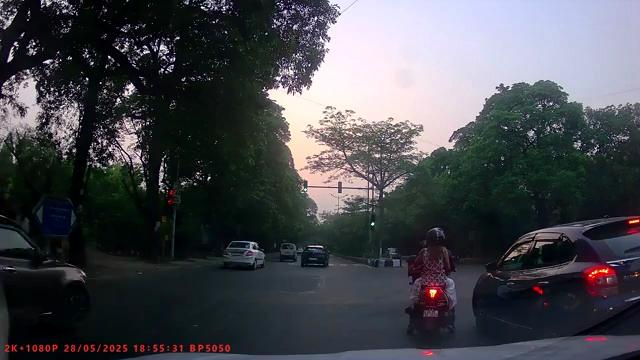passenger_with_helmet: (403, 224, 462, 345)
